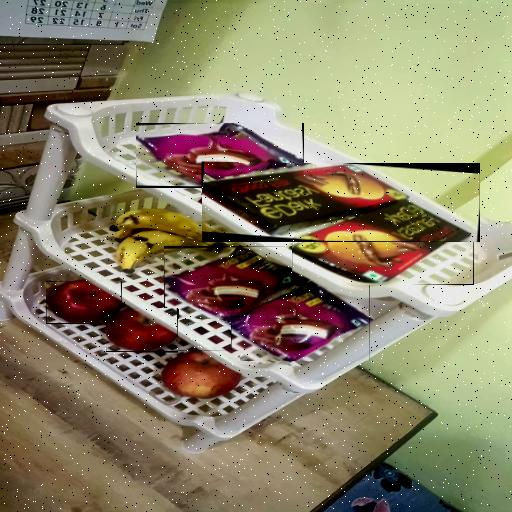Apple: (160, 350, 240, 398), (46, 281, 122, 324), (106, 308, 178, 352)
Choco Fills: (202, 163, 480, 242), (292, 167, 474, 285)
Choco Pie: (231, 276, 370, 361), (136, 123, 304, 188), (164, 246, 296, 319)
